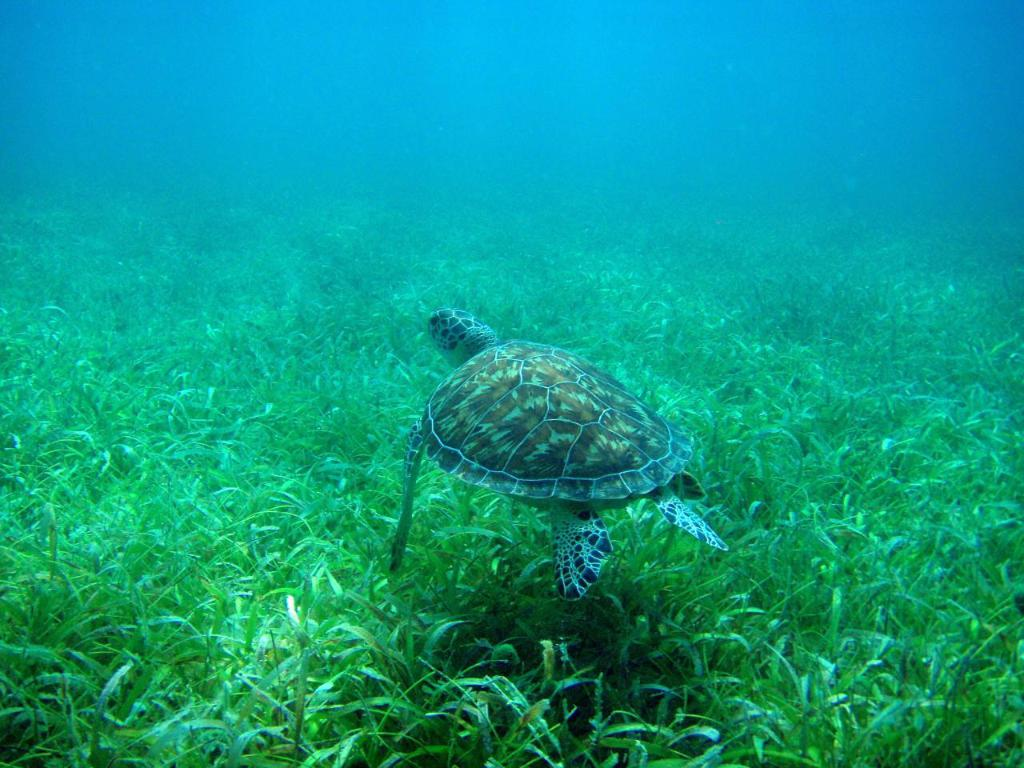Sea turtles: (386, 308, 727, 604)
